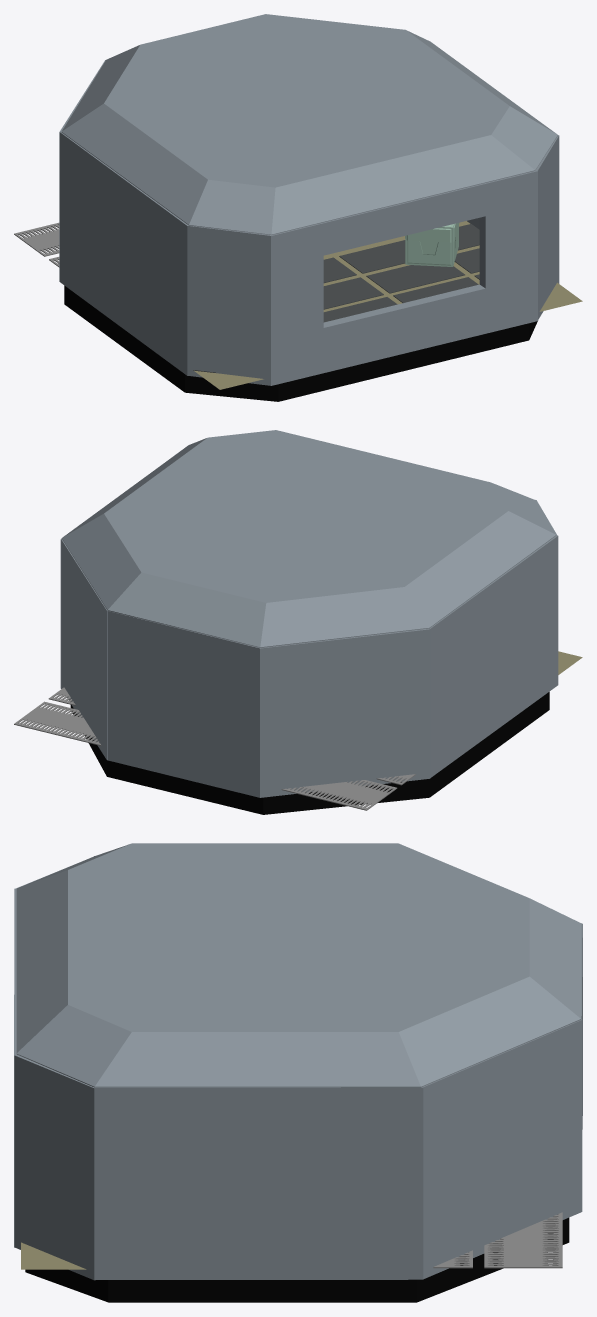
File: lobby.bb1c9541.glb
The picture shows the model from 3 angles, top to bottom: view 1: azimuth 30°, elevation 25°; view 2: azimuth 150°, elevation 25°; view 3: azimuth 270°, elevation 25°; orthographic projection. The views are drawn at different scales.
Visible parts, largest first — view 1: pCube121, polySurface112, pCube2, pCube7, nav-mesh, pCube8, pPlane2, polySurface6, pCube20, pCube19, pCube15, polySurface91 (+3 smaller); view 2: pCube121, pCube3, pCube4, pCube2, nav-mesh, pCube1, polySurface92, polySurface91; view 3: pCube121, pCube6, pCube1, pCube8, nav-mesh, polySurface92, pPlane2, polySurface112.
Part boxes in pixels (box(x1,y1,x2,y2)): pCube121: box(61, 14, 557, 235); polySurface112: box(271, 170, 537, 385); pCube2: box(60, 132, 188, 375); pCube7: box(188, 225, 270, 385); nav-mesh: box(64, 285, 537, 401); pCube8: box(535, 135, 559, 319); pPlane2: box(194, 221, 582, 389); polySurface6: box(405, 223, 459, 266); pCube20: box(366, 265, 464, 293); pCube19: box(339, 240, 405, 273); pCube15: box(323, 277, 383, 309); polySurface91: box(14, 222, 59, 256); pCube121: box(61, 430, 556, 647); pCube3: box(260, 628, 430, 797); pCube4: box(107, 611, 259, 797); pCube2: box(429, 535, 558, 777); nav-mesh: box(70, 692, 549, 814); pCube1: box(61, 539, 107, 760); polySurface92: box(14, 701, 101, 745); polySurface91: box(281, 780, 397, 810); pCube121: box(16, 843, 580, 1087); pCube6: box(94, 1087, 423, 1280); pCube1: box(423, 1019, 582, 1279); pCube8: box(14, 1054, 94, 1279); nav-mesh: box(25, 1217, 569, 1302); polySurface92: box(484, 1212, 562, 1268); pPlane2: box(21, 1242, 86, 1269); polySurface112: box(14, 888, 16, 1247).
Size of the model in its own units: 14.5 by 7.39 by 15.01.
